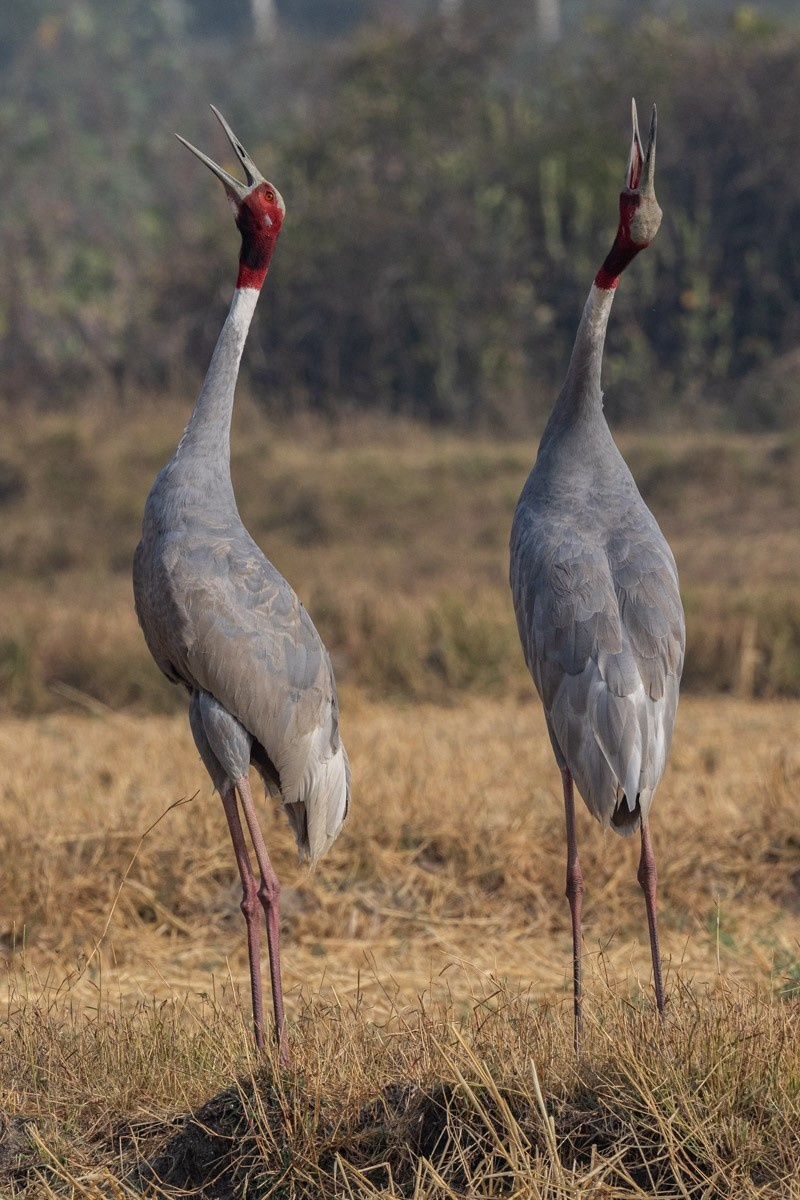crane: (138, 95, 376, 1059), (522, 85, 701, 1030)
